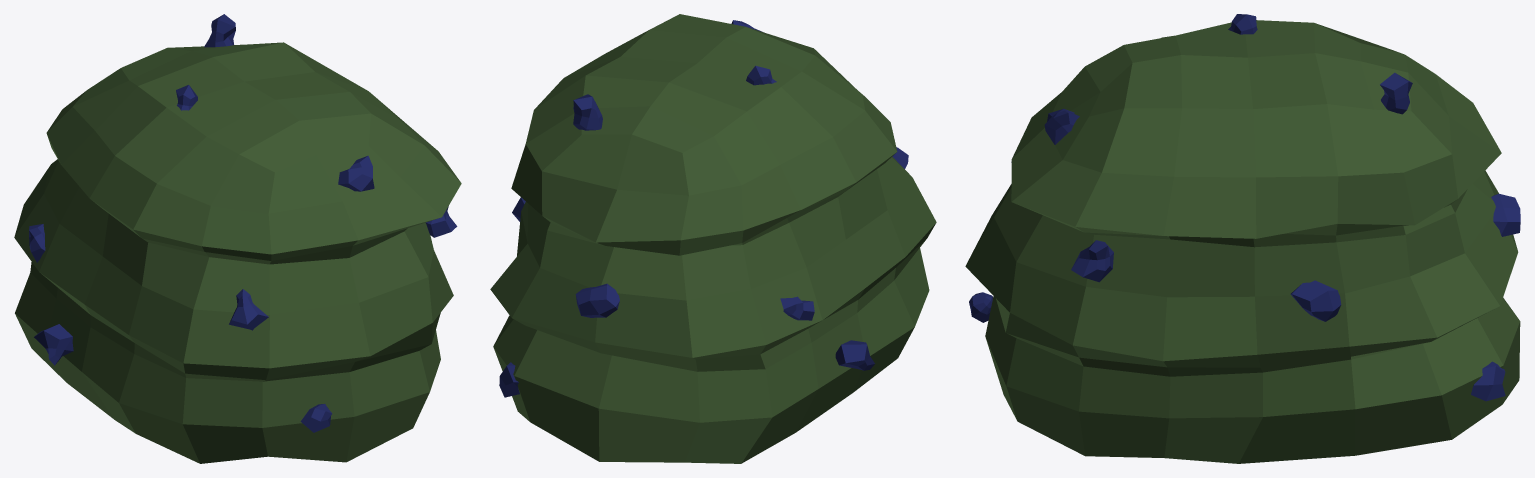
Rendered from bush_berries.001.fbx.
3 renders of one model, left to right at view 1: azimuth 30°, elevation 25°; view 2: azimuth 150°, elevation 25°; view 3: azimuth 270°, elevation 25°, orthographic. The views are drawn at different scales.
Visible parts, largest first — view 1: bush_berries.001; view 2: bush_berries.001; view 3: bush_berries.001.
Part boxes in pixels (x1,y1,x2,y2): bush_berries.001: (14,14,461,463); bush_berries.001: (490,14,936,463); bush_berries.001: (965,14,1520,463).
Size of the model in its own units: 1.39 by 1.28 by 1.72.
